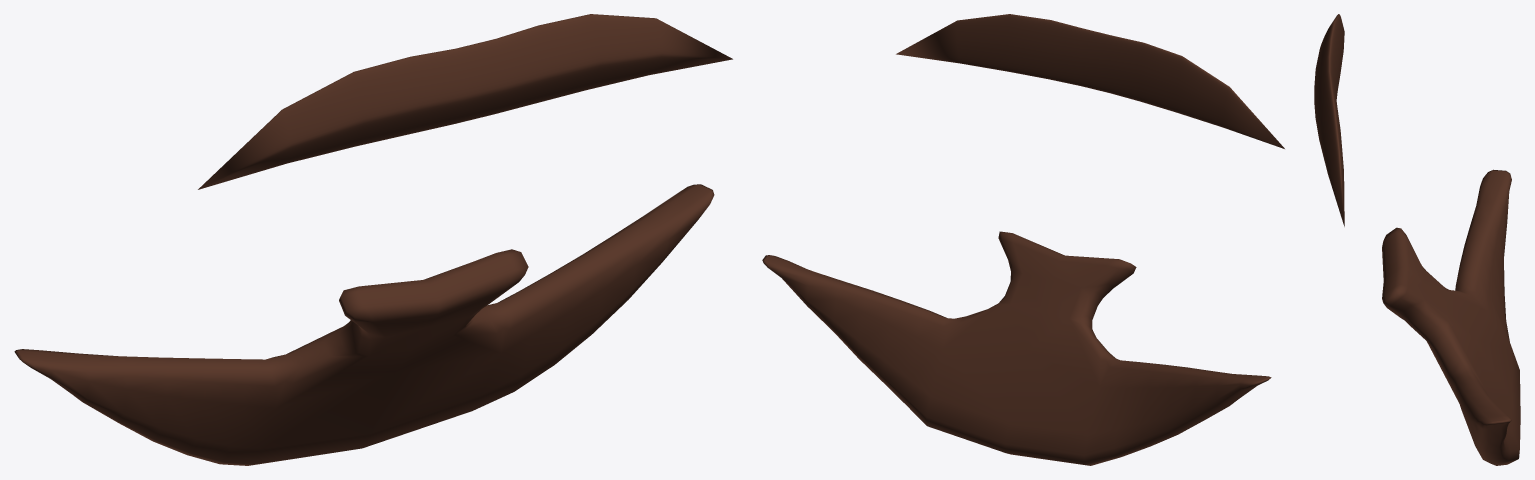
File: beardMedium.glb
3 views of the same model, side by side, from view 1: azimuth 30°, elevation 25°; view 2: azimuth 150°, elevation 25°; view 3: azimuth 270°, elevation 25° (orthographic). The views are drawn at different scales.
Visible parts, largest first — view 1: beardMedium; view 2: beardMedium; view 3: beardMedium.
Boxes of the visible parts, bbox=[...] form: beardMedium: bbox=[14, 14, 732, 465]; beardMedium: bbox=[762, 14, 1284, 465]; beardMedium: bbox=[1314, 14, 1520, 465].
Bounding box in the file's own units: 0.2332 × 0.159 × 0.0803.
